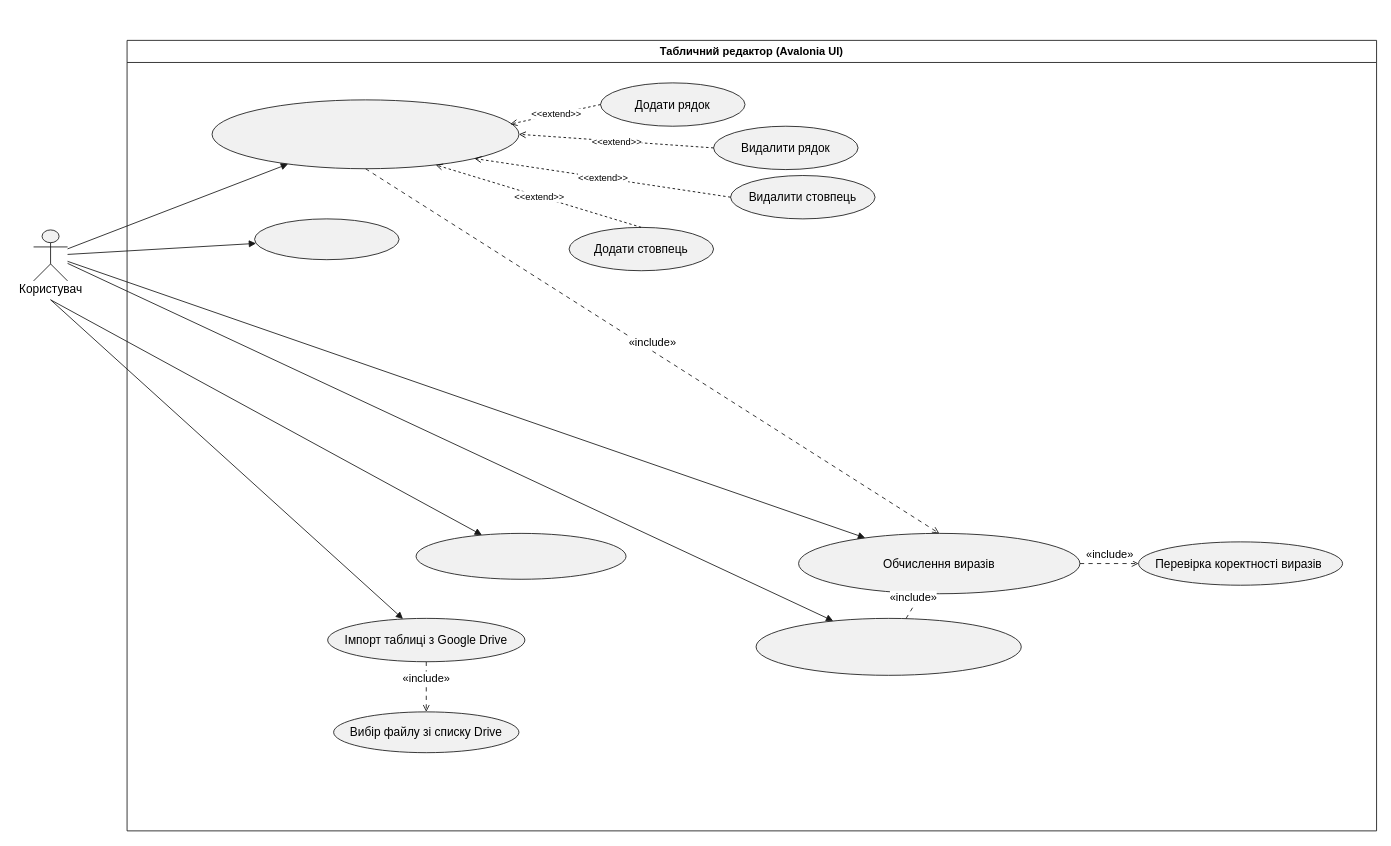
Image size: 1391x846. Some labels were removed from this diagram. Each missing label, with the box of its shape:
Введення та редагування значень: (755, 618, 1021, 675)
Експорт таблиці на Google Drive: (415, 533, 626, 579)
Керування розміром сітки: (211, 99, 519, 169)
Очищення таблиці: (254, 218, 399, 260)
